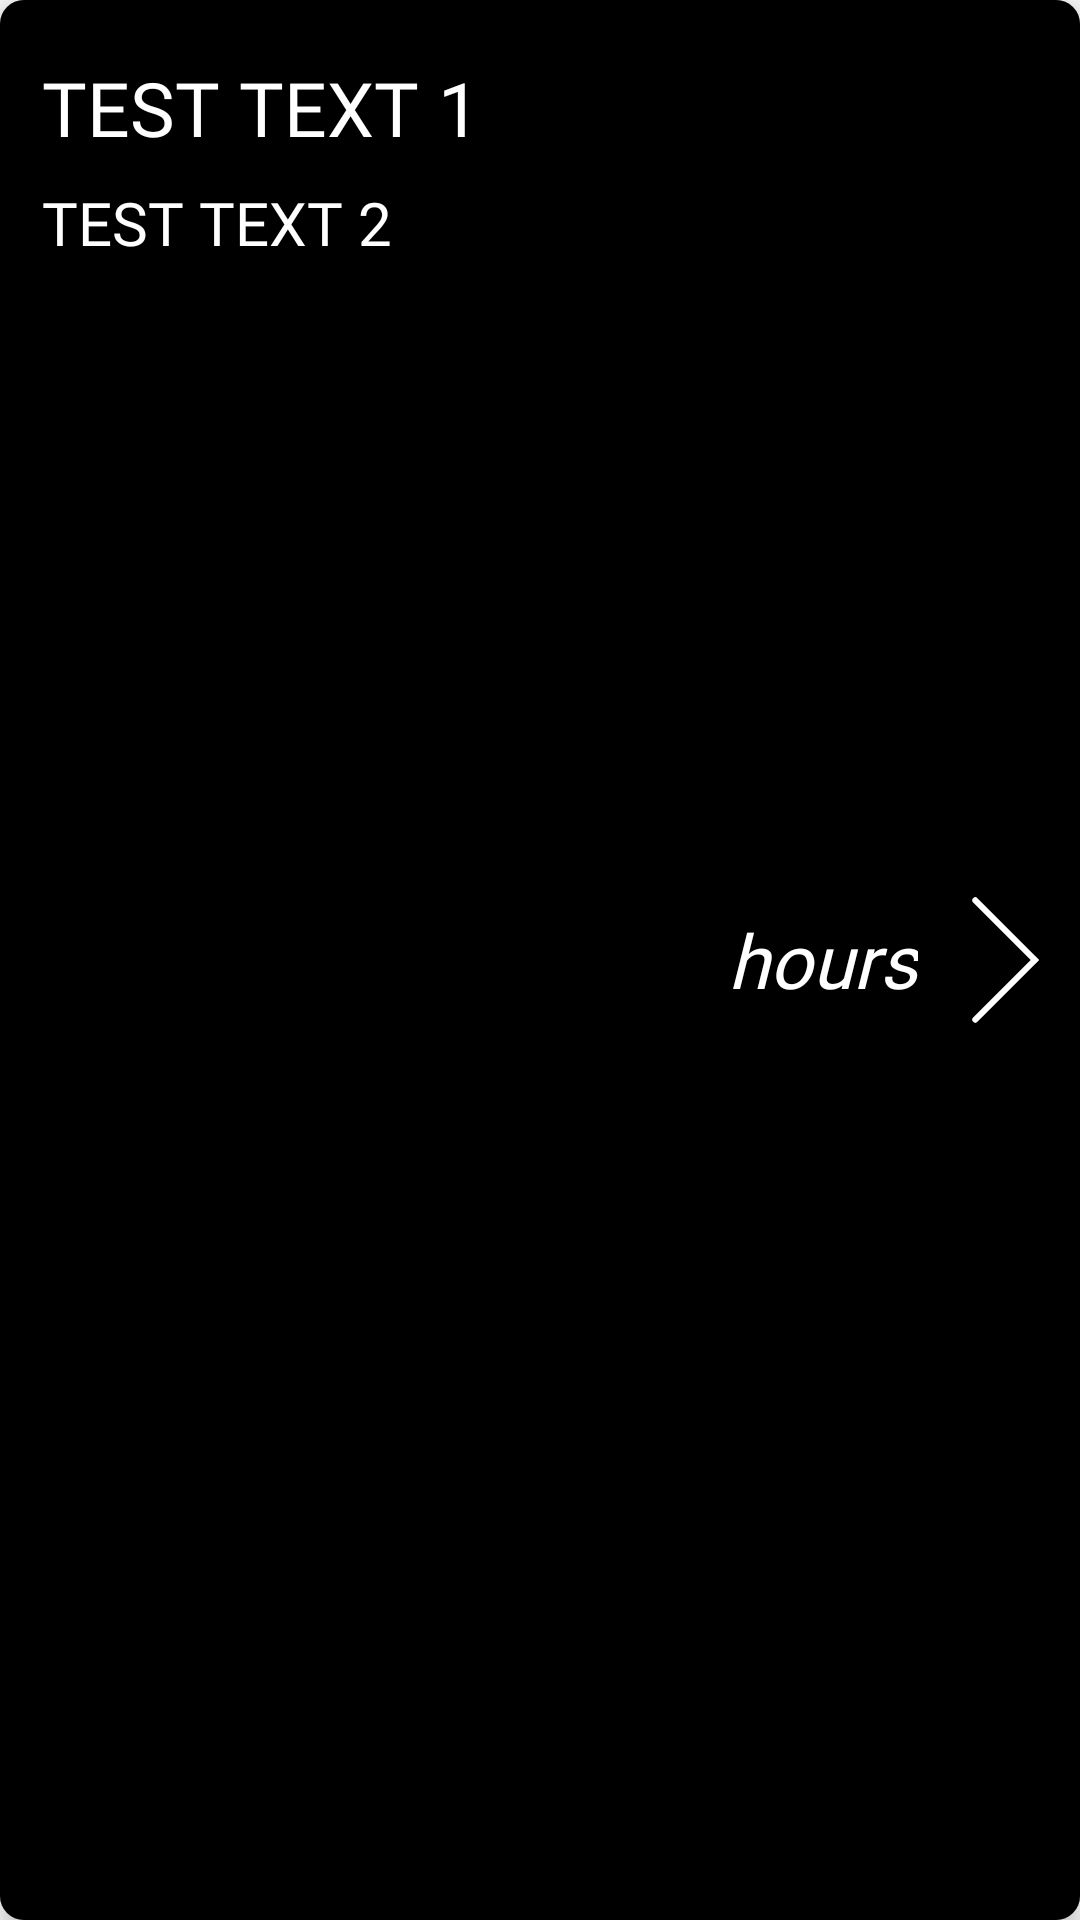

Where icons sit on this 1080px×1920px app screen, as (left=x1, top=y1, right=x2, bottom=y2):
arrow: (left=972, top=897, right=1039, bottom=1023)
